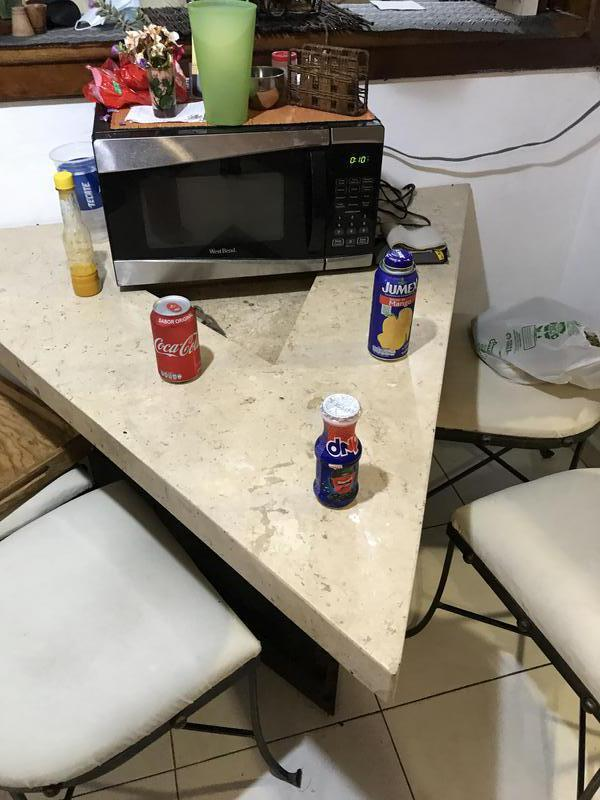coca_cola: (147, 298, 206, 384)
danup: (311, 393, 365, 512)
jugo_jumex: (366, 252, 420, 364)
